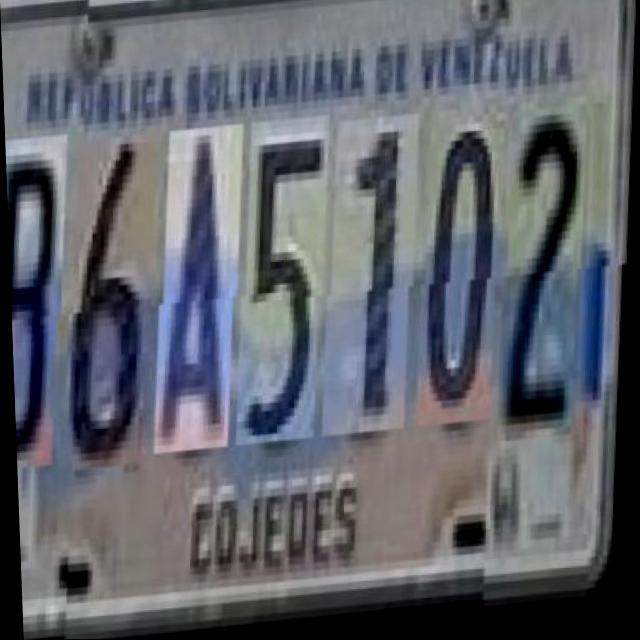1: (321, 123, 431, 444)
2: (497, 110, 600, 438)
5: (234, 124, 341, 453)
6: (62, 137, 173, 473)
a: (152, 131, 255, 459)
b: (4, 144, 78, 480)
o: (415, 117, 518, 438)
